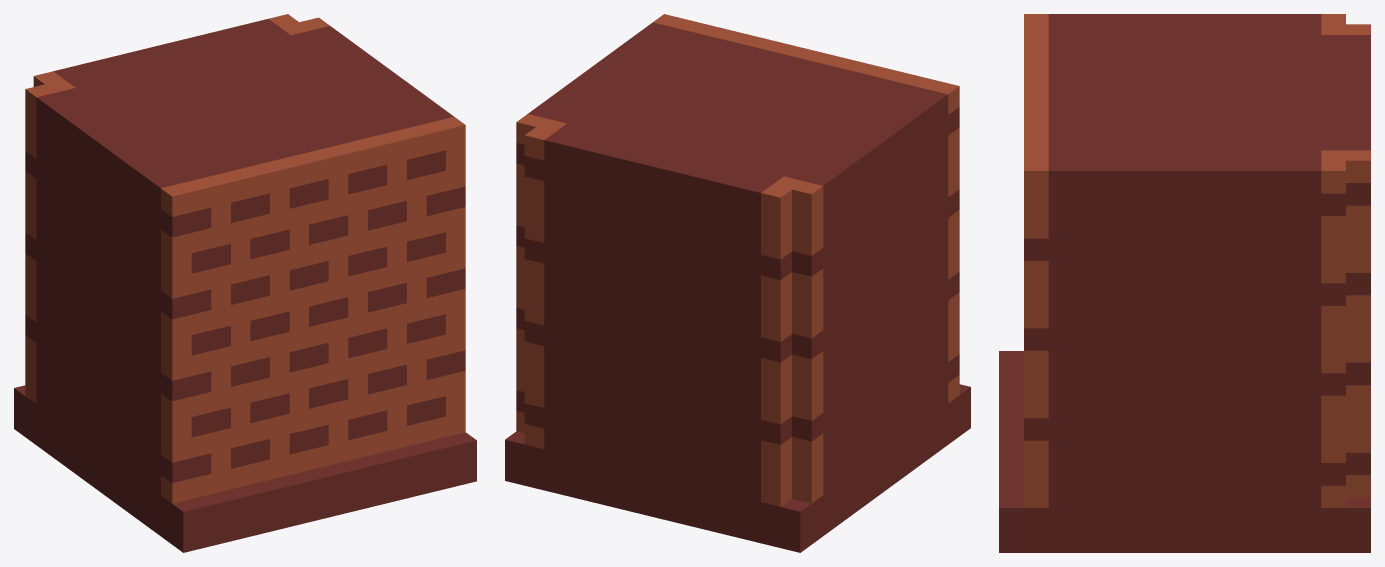
The model's file is dungeon_b_b_inner_wall_segment_b_flipped.obj.
3 views of the same model, side by side, from view 1: azimuth 30°, elevation 25°; view 2: azimuth 150°, elevation 25°; view 3: azimuth 270°, elevation 25° (orthographic). The views are drawn at different scales.
Size of the model in its own units: 1.5 by 1.7 by 1.5.
1 material, 1 textured.
